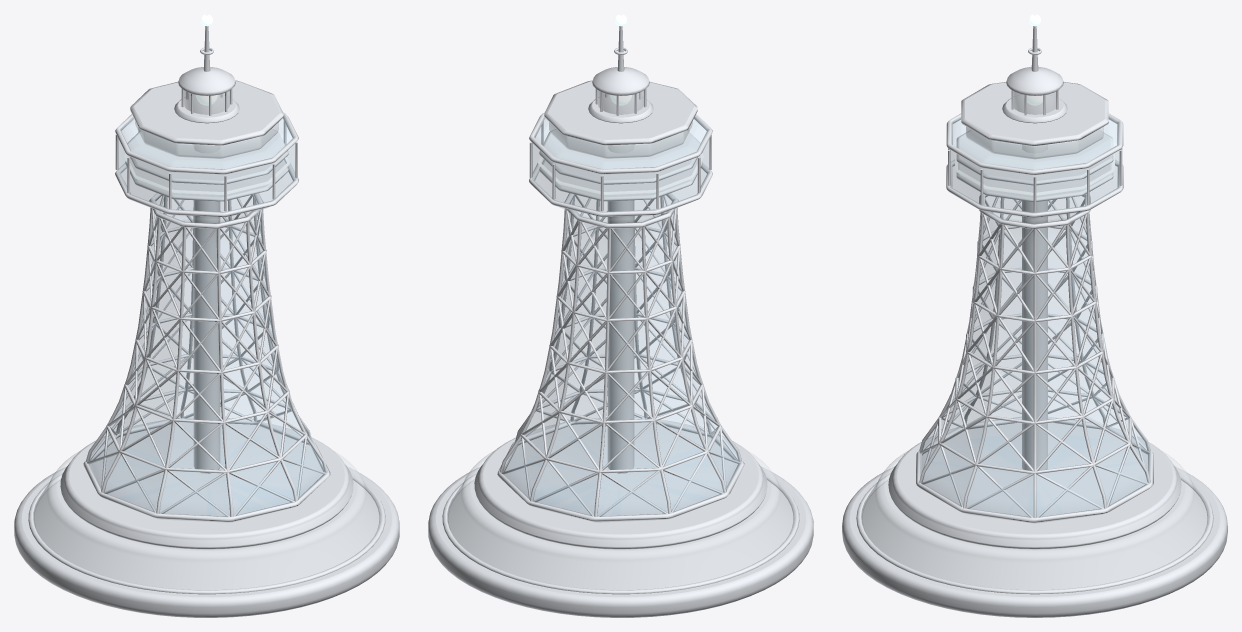
3 views of the same model, side by side, from view 1: azimuth 30°, elevation 25°; view 2: azimuth 150°, elevation 25°; view 3: azimuth 270°, elevation 25° (orthographic).
Parts seen in each view (by area): view 1: YokohamaMarineTower_ChessPiece; view 2: YokohamaMarineTower_ChessPiece; view 3: YokohamaMarineTower_ChessPiece.
Part boxes in pixels (x1,y1,x2,y2): YokohamaMarineTower_ChessPiece: [14, 14, 399, 617]; YokohamaMarineTower_ChessPiece: [428, 14, 813, 617]; YokohamaMarineTower_ChessPiece: [842, 14, 1227, 617].
Bounding box in the file's own units: 2 × 3 × 2.
